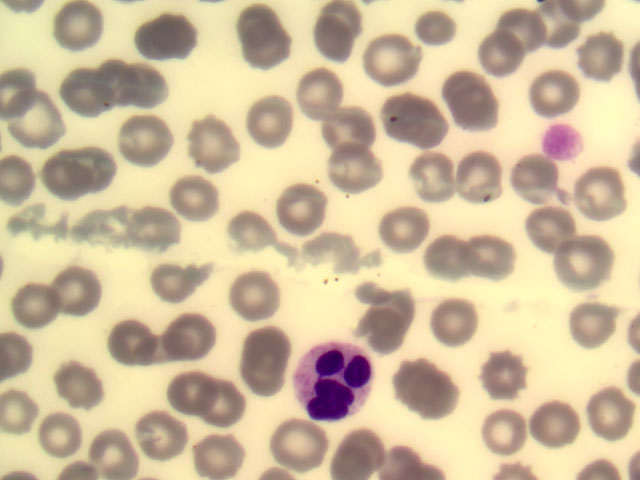Platelets: (540, 119, 584, 159)
RBC: (61, 61, 114, 114), (15, 96, 68, 149), (94, 60, 147, 113), (109, 59, 162, 112), (140, 12, 193, 65), (231, 25, 284, 78), (232, 5, 285, 58), (299, 16, 352, 69), (328, 1, 381, 54), (365, 33, 418, 86), (438, 55, 491, 108), (450, 79, 503, 132), (415, 99, 468, 152), (371, 85, 424, 138), (332, 98, 385, 151), (296, 69, 349, 122), (246, 92, 299, 145), (181, 115, 234, 168), (121, 111, 174, 164), (80, 138, 133, 191), (37, 146, 90, 199), (120, 206, 173, 259), (182, 174, 235, 227), (239, 209, 292, 262), (284, 179, 337, 232), (319, 145, 372, 198), (399, 152, 452, 205), (450, 151, 503, 204), (515, 147, 568, 200), (587, 164, 640, 217), (527, 200, 580, 253), (559, 239, 612, 292), (465, 229, 518, 282), (419, 233, 472, 286), (377, 204, 430, 257), (373, 284, 426, 337), (422, 288, 475, 341), (557, 297, 610, 350), (484, 343, 537, 396), (411, 355, 464, 408), (474, 406, 527, 459), (538, 397, 591, 450), (583, 391, 636, 444), (275, 420, 328, 473), (334, 427, 387, 480), (184, 427, 237, 480), (204, 371, 257, 424), (171, 360, 224, 413), (242, 353, 295, 406), (240, 322, 293, 375), (232, 263, 285, 316), (170, 300, 223, 353), (137, 316, 190, 369), (109, 309, 162, 362), (151, 249, 204, 302), (56, 261, 109, 314), (17, 273, 70, 326), (54, 357, 107, 410), (33, 404, 86, 457), (85, 427, 138, 480), (127, 407, 180, 460), (52, 1, 105, 53), (1, 62, 53, 115), (402, 1, 455, 53), (1, 155, 53, 208)
WBC: (286, 336, 380, 429)
